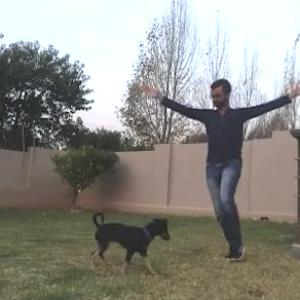takeoff: (145, 82, 299, 265)
